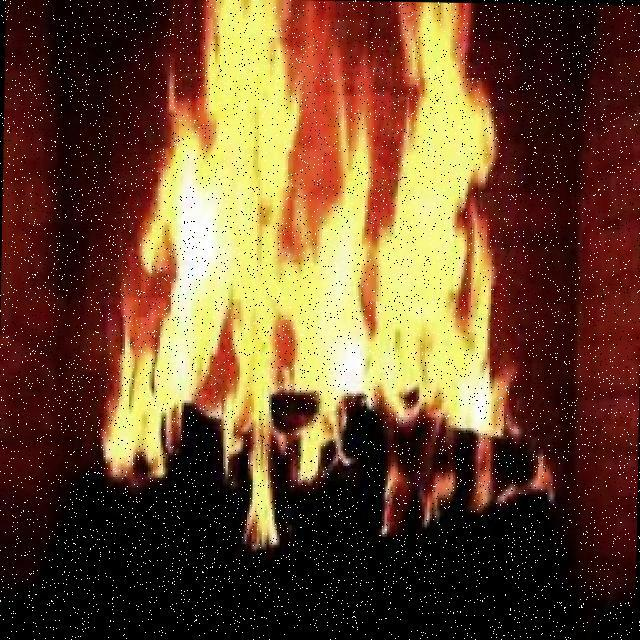Fire: (121, 27, 510, 474)
